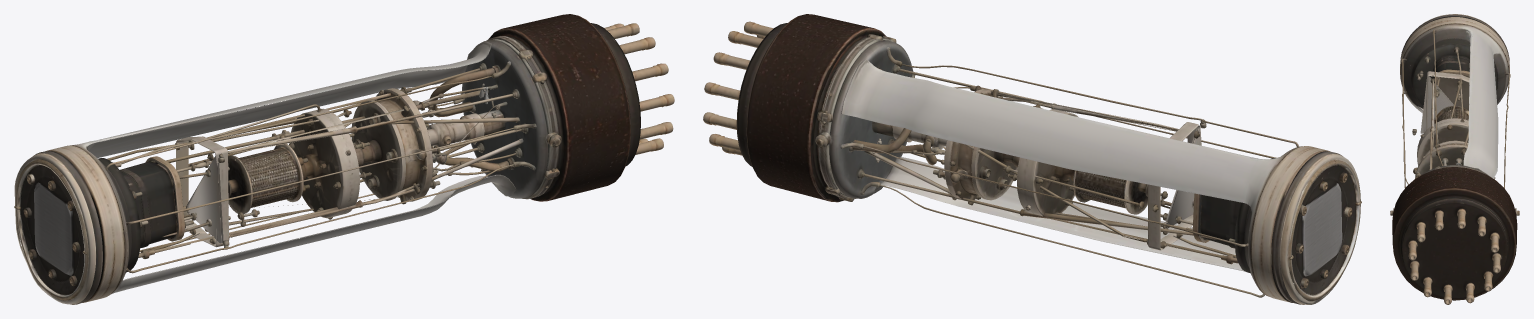
File: television.glb
3 views of the same model, side by side, from view 1: azimuth 30°, elevation 25°; view 2: azimuth 150°, elevation 25°; view 3: azimuth 270°, elevation 25° (orthographic). The views are drawn at different scales.
Parts seen in each view (by area): view 1: f861bcad_91d7_42ae_9c43_367df666de6d; view 2: f861bcad_91d7_42ae_9c43_367df666de6d; view 3: f861bcad_91d7_42ae_9c43_367df666de6d.
Part boxes in pixels (x1,y1,x2,y2): f861bcad_91d7_42ae_9c43_367df666de6d: [14, 14, 674, 304]; f861bcad_91d7_42ae_9c43_367df666de6d: [703, 14, 1361, 304]; f861bcad_91d7_42ae_9c43_367df666de6d: [1390, 14, 1519, 304].
Bounding box in the file's own units: 0.9995 × 0.2603 × 0.2691.
1 material, 1 textured.
